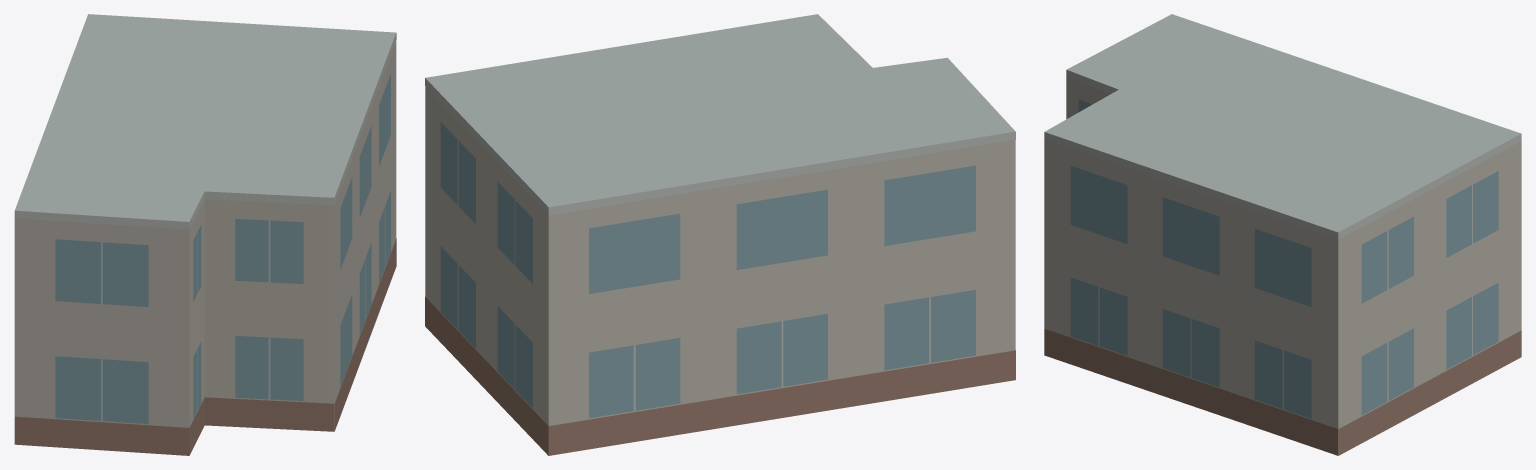
The model's file is survey-upis-33006260.glb.
3 views of the same model, side by side, from view 1: azimuth 30°, elevation 25°; view 2: azimuth 150°, elevation 25°; view 3: azimuth 270°, elevation 25° (orthographic). The views are drawn at different scales.
Parts seen in each view (by area): view 1: survey-upis-33006260.tmp; view 2: survey-upis-33006260.tmp; view 3: survey-upis-33006260.tmp.
Part boxes in pixels (x1,y1,x2,y2): survey-upis-33006260.tmp: (14,14,396,455); survey-upis-33006260.tmp: (425,14,1015,455); survey-upis-33006260.tmp: (1044,14,1521,455).
Bounding box in the file's own units: 15.74 × 7.5 × 14.53.
